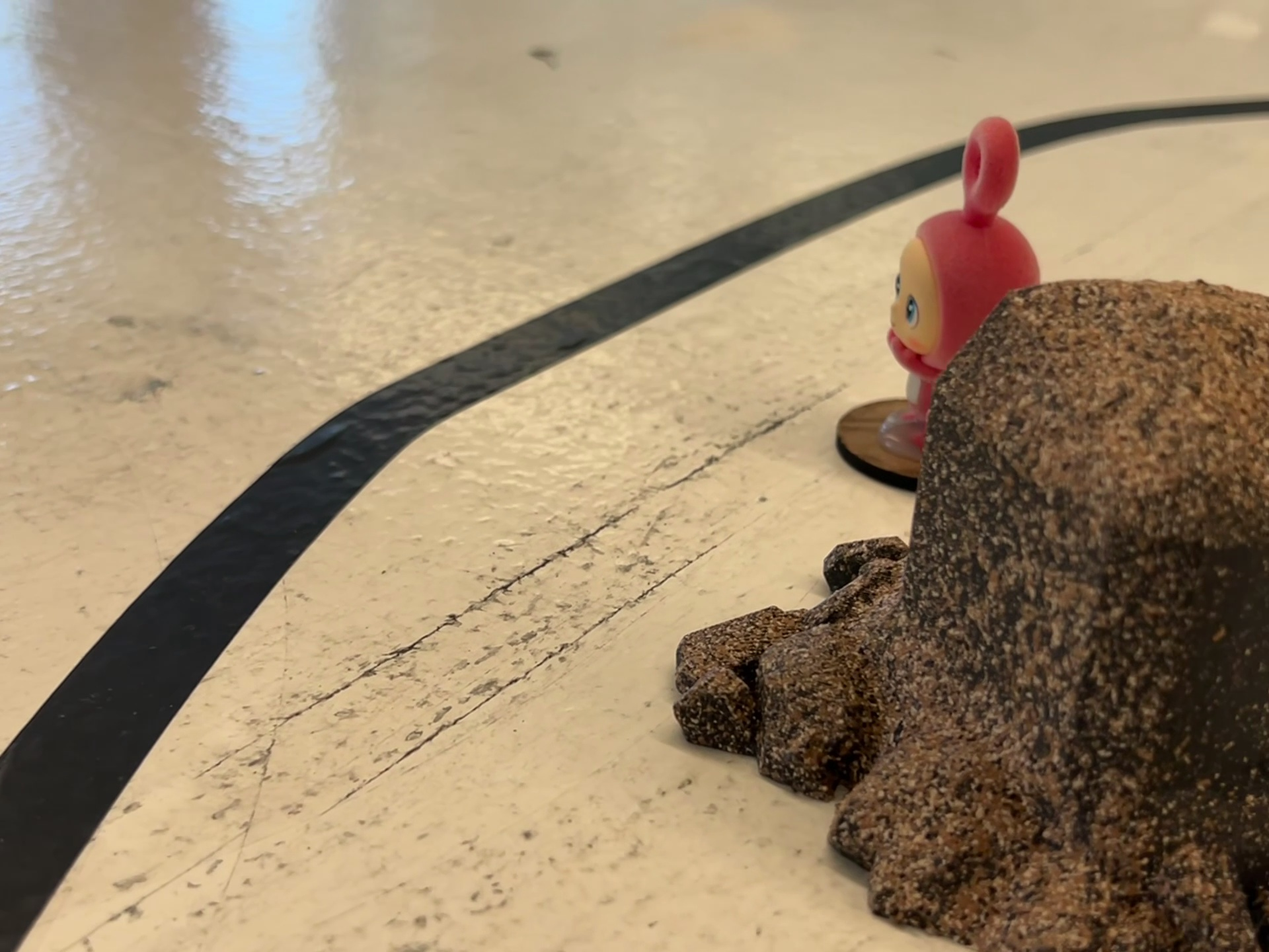teletubby: (887, 117, 1040, 448)
